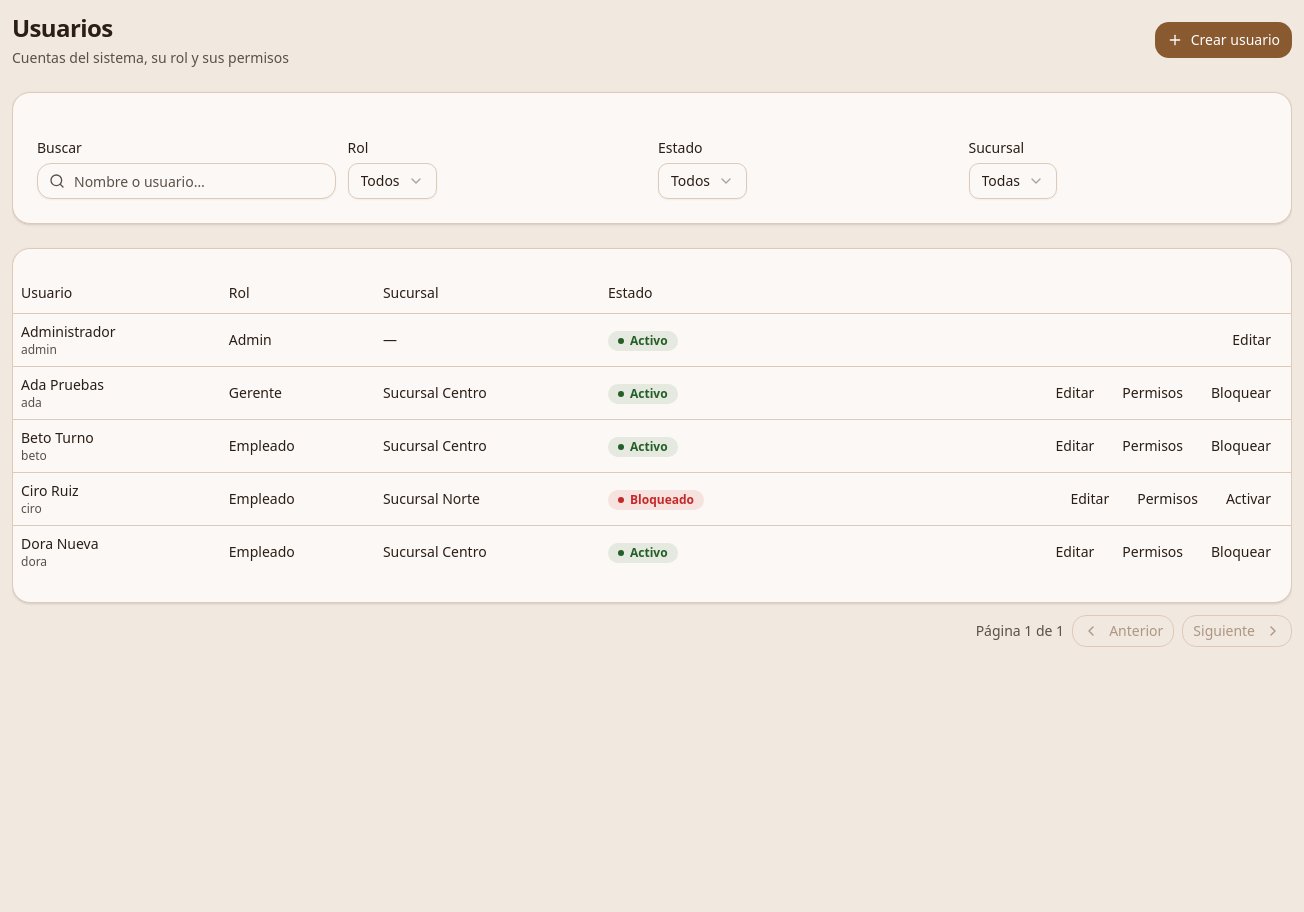
it: Gestión de usuarios › busca por nombre o nombre de usuario
The image size is (1304, 912).
Expected: the text "Beto Turno" is shown, [21,428,94,446]
Type "beto" into the field labelled "Buscar". click: (186, 181)
box: [37,163,336,199]
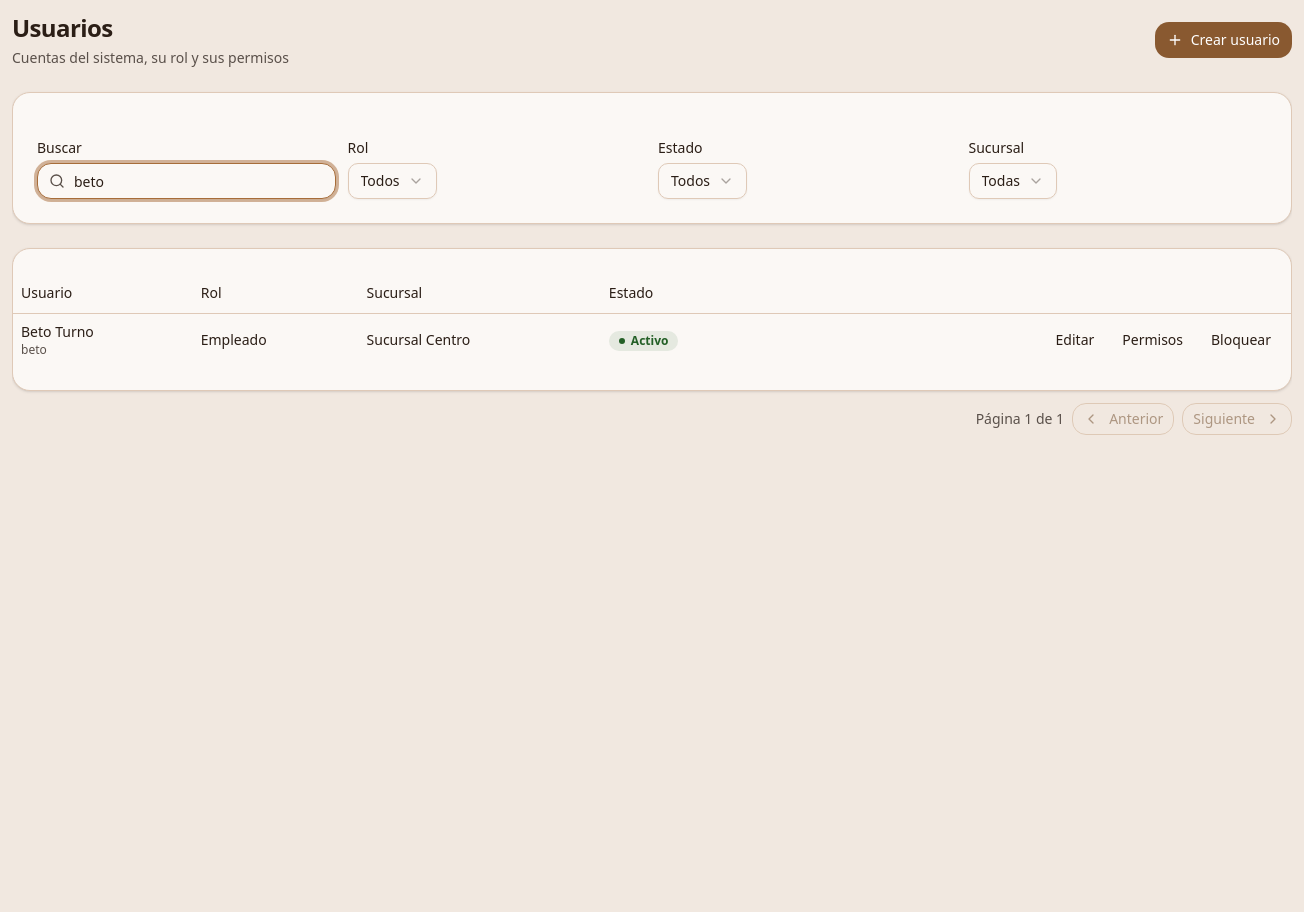
Expected: the text "Beto Turno" is shown, [21,322,94,340]
Expected: the text "Ada Pruebas" is gone
Expected: the text "Ciro Ruiz" is gone
